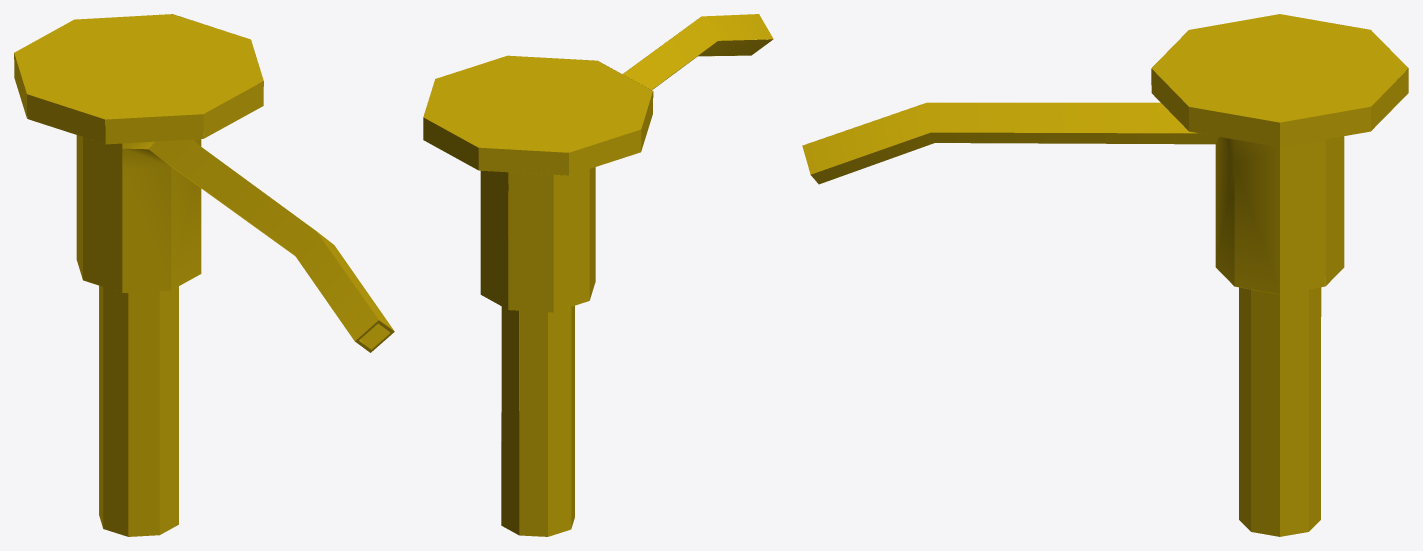
File: original-3.obj
3 views of the same model, side by side, from view 1: azimuth 30°, elevation 25°; view 2: azimuth 150°, elevation 25°; view 3: azimuth 270°, elevation 25° (orthographic). The views are drawn at different scales.
Visible parts, largest first — view 1: #ID31; view 2: #ID31; view 3: #ID31.
Boxes of the visible parts, x1,y1,x2,y2 form: #ID31: (14,14,394,536); #ID31: (423,14,773,536); #ID31: (802,14,1408,536).
Bounding box in the file's own units: 0.2634 × 0.5097 × 0.6206.
